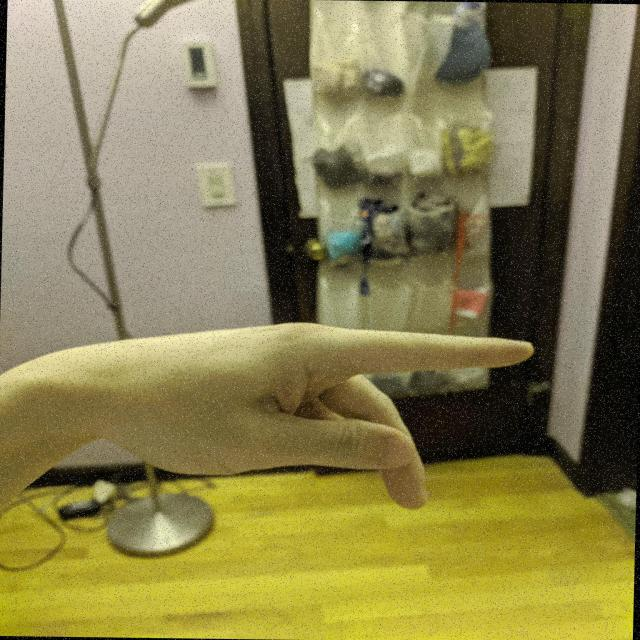P: (89, 310, 543, 519)
